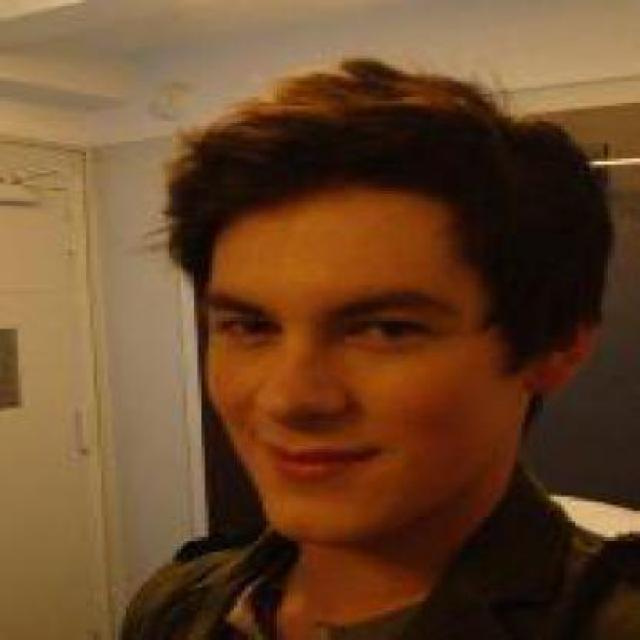closed-mouth: (256, 431, 372, 484)
